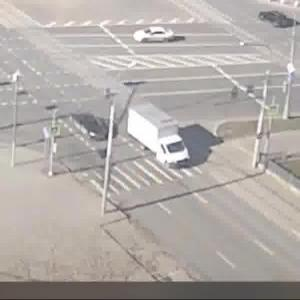car: (127, 101, 194, 170), (72, 110, 117, 142), (133, 26, 178, 50), (254, 8, 300, 30)
